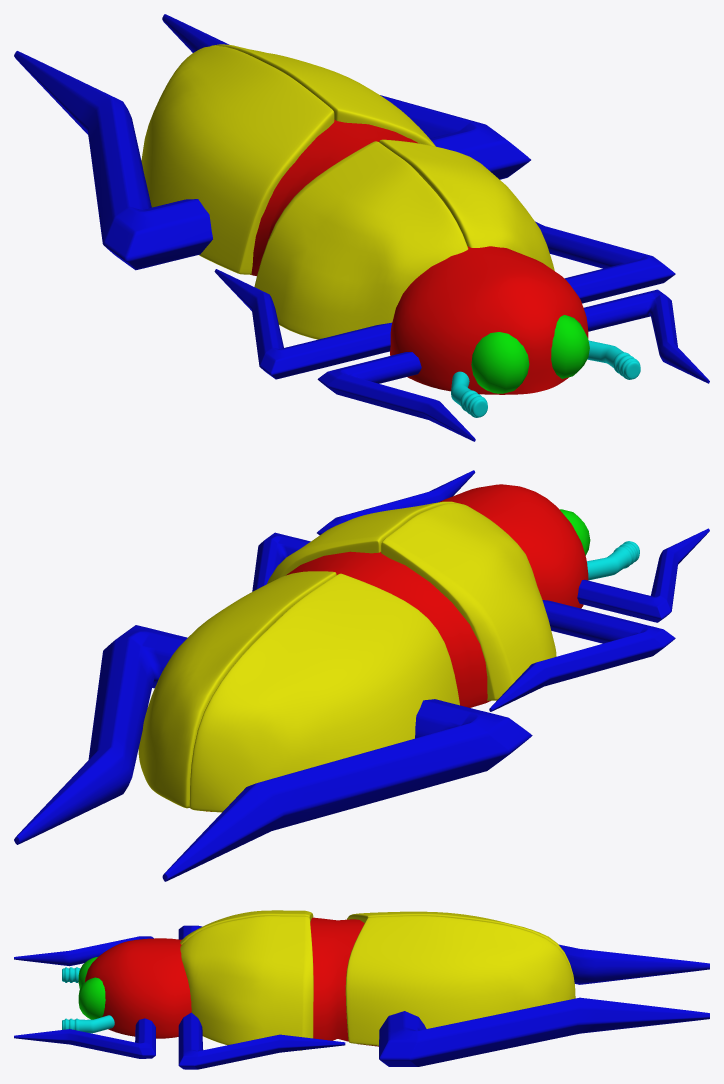
The model's file is Scarab_Ornament.fbx.
3 views of the same model, one above another, from view 1: azimuth 30°, elevation 25°; view 2: azimuth 150°, elevation 25°; view 3: azimuth 270°, elevation 25° (orthographic). The views are drawn at different scales.
Parts seen in each view (by area): view 1: Scarab_Ornament; view 2: Scarab_Ornament; view 3: Scarab_Ornament.
Part boxes in pixels (bbox=[...]): Scarab_Ornament: bbox=[14, 14, 709, 441]; Scarab_Ornament: bbox=[14, 470, 709, 881]; Scarab_Ornament: bbox=[14, 910, 709, 1069].
Size of the model in its own units: 52.31 by 16.75 by 111.
